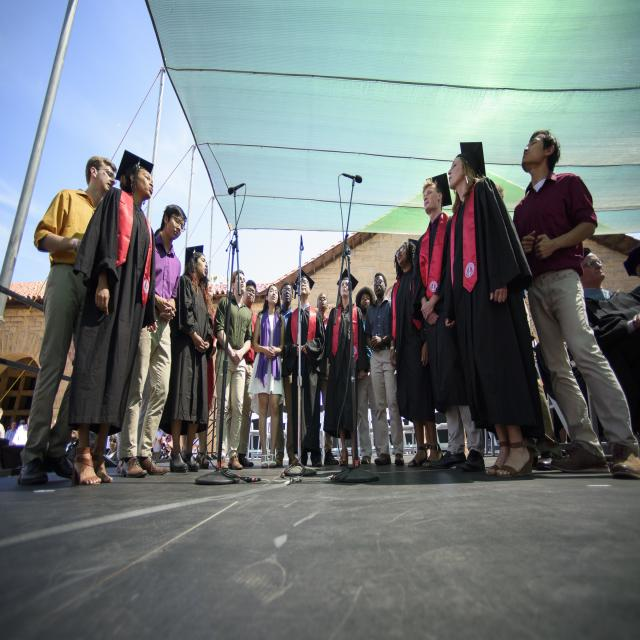body: (511, 128, 640, 483), (436, 134, 551, 486), (17, 155, 118, 487), (65, 143, 158, 490), (409, 170, 489, 479), (116, 201, 189, 484), (156, 243, 214, 475), (388, 238, 443, 474), (577, 246, 640, 435), (321, 266, 369, 469), (361, 271, 407, 469), (282, 267, 326, 472), (212, 268, 254, 473), (179, 276, 218, 472), (224, 278, 262, 467), (250, 282, 287, 472), (355, 286, 381, 465), (275, 280, 298, 468), (53, 416, 80, 464), (58, 419, 84, 461), (11, 414, 31, 444), (622, 247, 640, 279), (315, 291, 329, 330), (153, 426, 166, 459), (105, 432, 119, 462), (4, 420, 19, 446), (158, 432, 172, 459), (0, 407, 5, 440), (17, 418, 26, 429)
